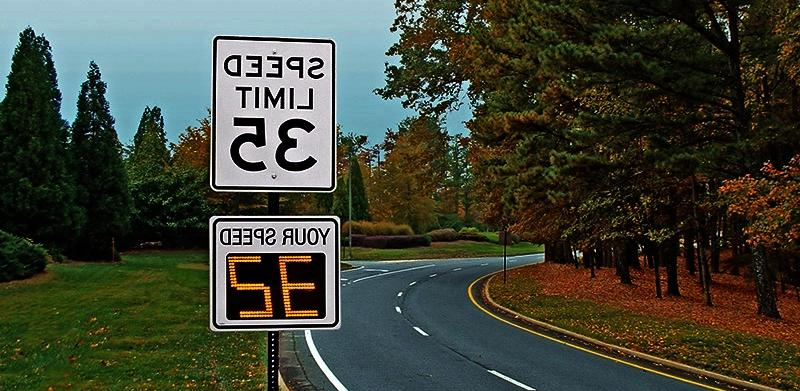speed limit sign: (207, 34, 337, 194)
